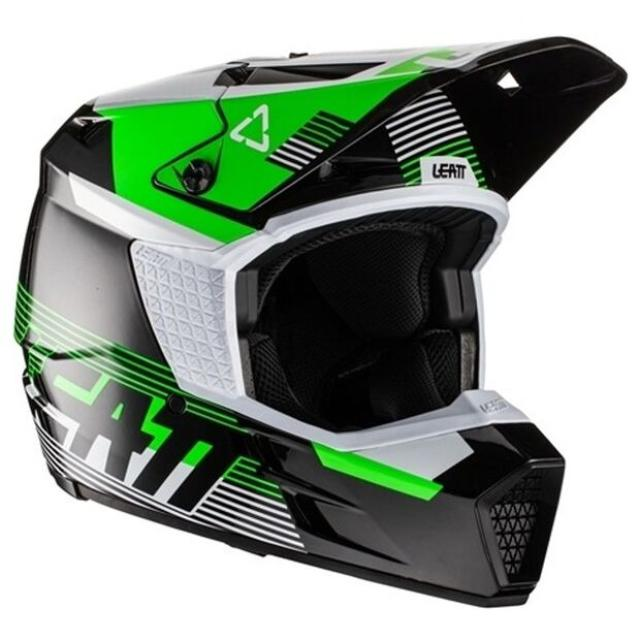Helmet: (17, 34, 617, 609)
